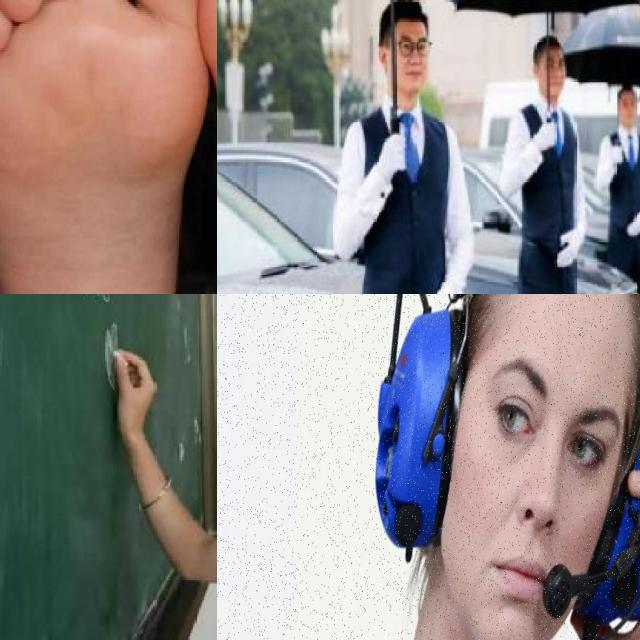Barefoots: (0, 0, 213, 294)
No_Ear-Protection: (376, 306, 466, 548)
No_Glasses: (481, 344, 626, 496)
face_nomask: (442, 425, 613, 640), (390, 24, 427, 86), (544, 55, 568, 98), (622, 93, 640, 122)
glasses: (394, 32, 434, 58)
hand_glove: (376, 132, 408, 173), (555, 227, 582, 270), (538, 116, 559, 149), (625, 207, 640, 234), (612, 141, 622, 163)
hand_noglove: (110, 346, 157, 446)
head_nohelmet: (377, 0, 436, 36), (528, 36, 566, 64)
person: (80, 294, 217, 640), (309, 2, 462, 294), (494, 28, 586, 294), (605, 78, 640, 294)
